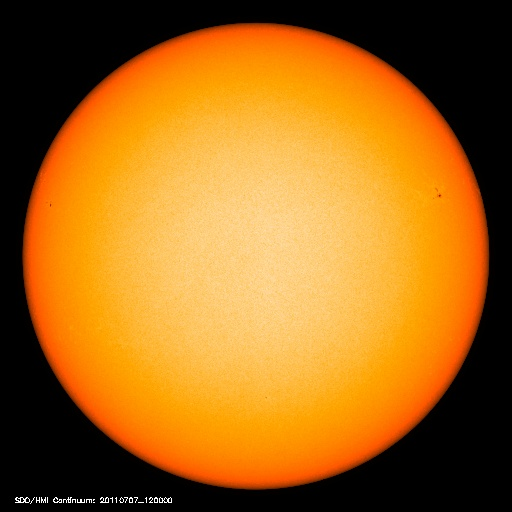sunspot: (422, 175, 455, 208)
